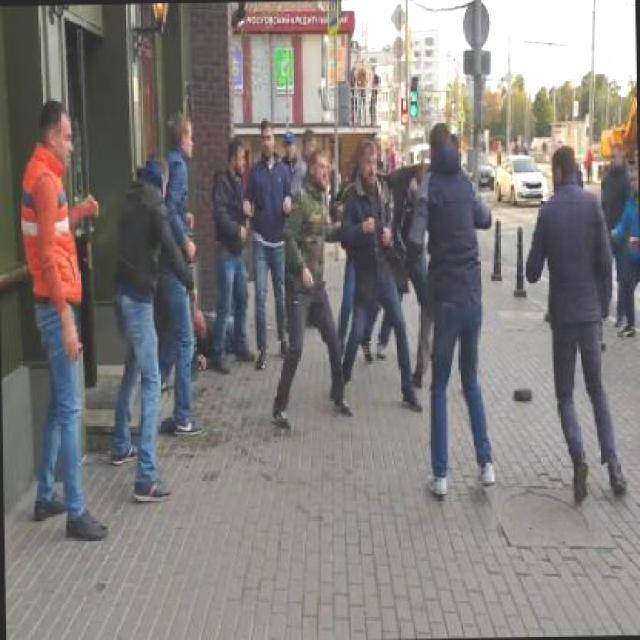non-fight: (20, 96, 109, 536), (112, 113, 206, 507), (336, 137, 422, 417), (274, 144, 346, 423), (212, 119, 290, 372)
